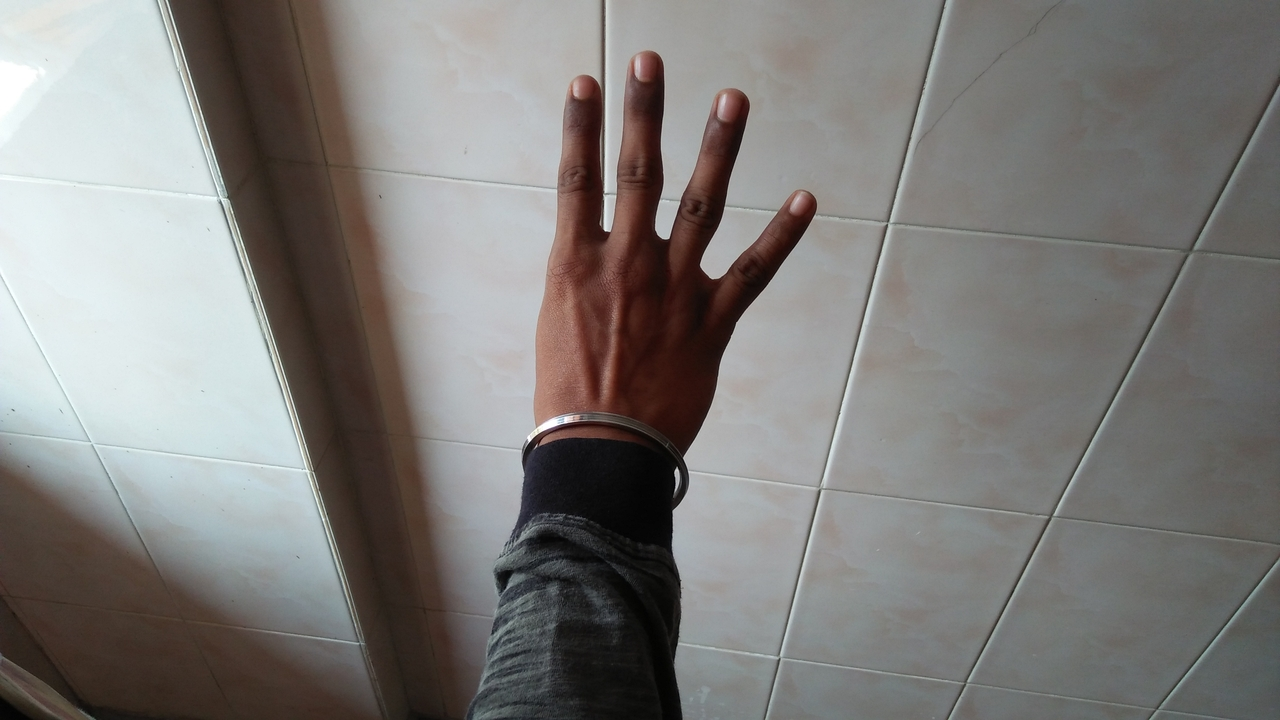fingertip: (770, 176, 826, 226), (702, 80, 756, 124), (620, 44, 668, 88), (558, 64, 606, 108)
